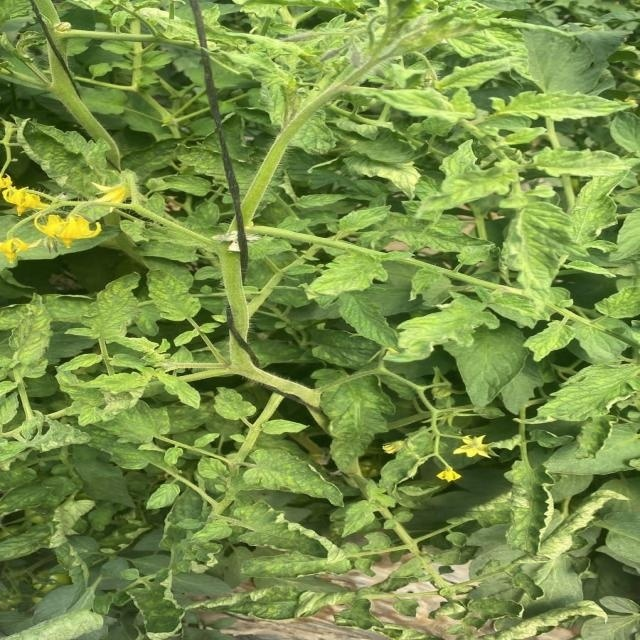T_Fl_H: (34, 216, 103, 248), (1, 176, 50, 216), (1, 239, 40, 264), (454, 437, 492, 459), (95, 184, 128, 204)
T_Fl_R: (437, 469, 463, 482), (383, 441, 405, 455)
T_L_H: (445, 325, 528, 407), (310, 330, 381, 370), (352, 132, 425, 164)
T_L_R: (503, 202, 588, 310), (385, 295, 501, 364), (19, 122, 119, 199), (323, 377, 397, 472), (534, 365, 640, 422), (188, 586, 357, 621), (243, 450, 343, 506), (234, 502, 328, 559), (68, 274, 141, 342), (505, 461, 552, 555), (308, 252, 390, 300), (503, 92, 632, 122), (145, 259, 201, 322), (10, 296, 52, 379), (339, 294, 399, 349), (345, 156, 421, 199), (419, 222, 494, 265), (97, 402, 172, 444), (1, 477, 79, 515), (128, 587, 185, 637), (241, 554, 352, 579), (359, 214, 432, 251), (534, 149, 630, 177), (30, 417, 90, 452), (525, 322, 577, 362), (292, 112, 337, 155), (177, 145, 225, 184), (1, 526, 50, 562), (577, 416, 617, 460), (157, 375, 201, 409), (214, 389, 257, 421), (339, 207, 391, 233), (88, 374, 150, 395), (148, 485, 181, 509), (263, 421, 308, 436), (312, 370, 348, 387), (199, 459, 228, 480), (235, 161, 257, 185)
T_S_R: (243, 46, 405, 220), (50, 42, 121, 169), (230, 341, 321, 409), (248, 226, 374, 254), (130, 204, 212, 246), (57, 31, 197, 50), (241, 394, 285, 453), (219, 252, 250, 332)
